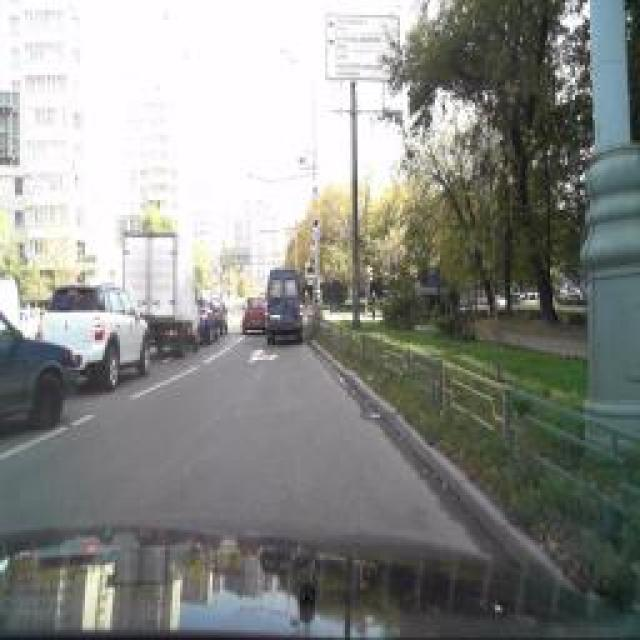sign: (311, 216, 321, 232)
